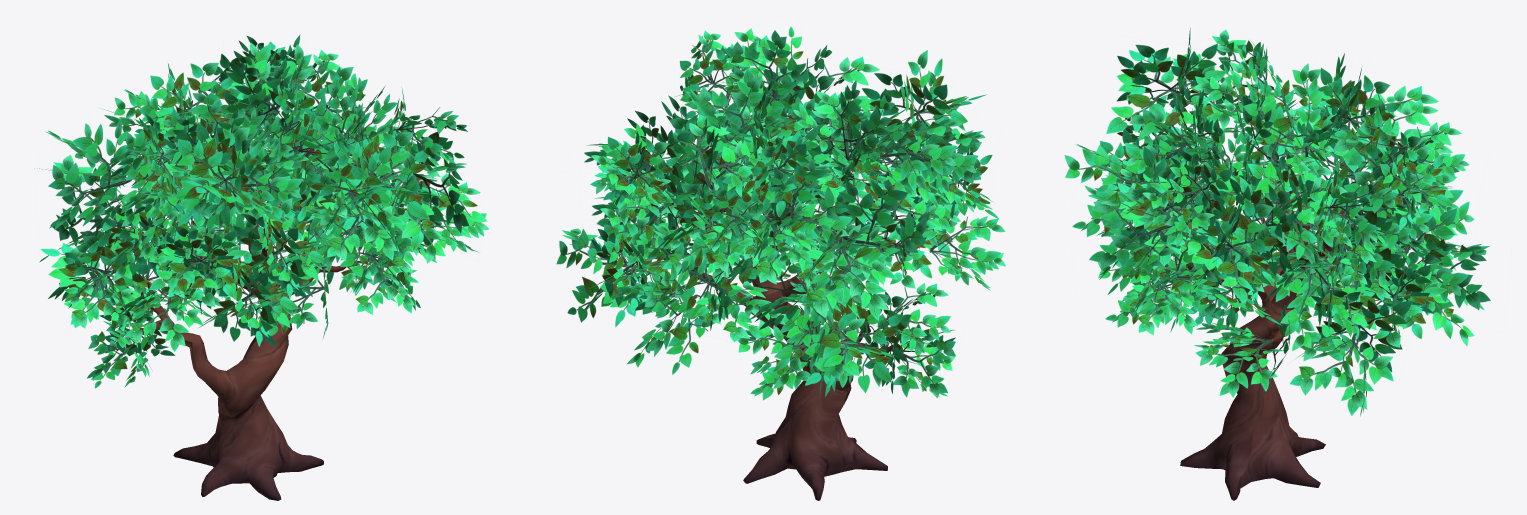
File: Tree_V1.glb
3 renders of one model, left to right at view 1: azimuth 30°, elevation 25°; view 2: azimuth 150°, elevation 25°; view 3: azimuth 270°, elevation 25°, orthographic. The views are drawn at different scales.
Visible parts, largest first — view 1: Tr_01_Leaves_autumn_001, Tr_01_Stem_autumn_001; view 2: Tr_01_Leaves_autumn_001, Tr_01_Stem_autumn_001; view 3: Tr_01_Leaves_autumn_001, Tr_01_Stem_autumn_001.
Boxes of the visible parts, x1=… form: Tr_01_Leaves_autumn_001: x1=34, y1=34, x2=489, y2=388; Tr_01_Stem_autumn_001: x1=140, y1=147, x2=346, y2=500; Tr_01_Leaves_autumn_001: x1=556, y1=26, x2=1005, y2=400; Tr_01_Stem_autumn_001: x1=683, y1=182, x2=898, y2=500; Tr_01_Leaves_autumn_001: x1=1064, y1=27, x2=1490, y2=416; Tr_01_Stem_autumn_001: x1=1165, y1=174, x2=1345, y2=500.
Bounding box in the file's own units: 4.34 × 4.27 × 4.15.
Materials: 2 (2 with a texture image).
